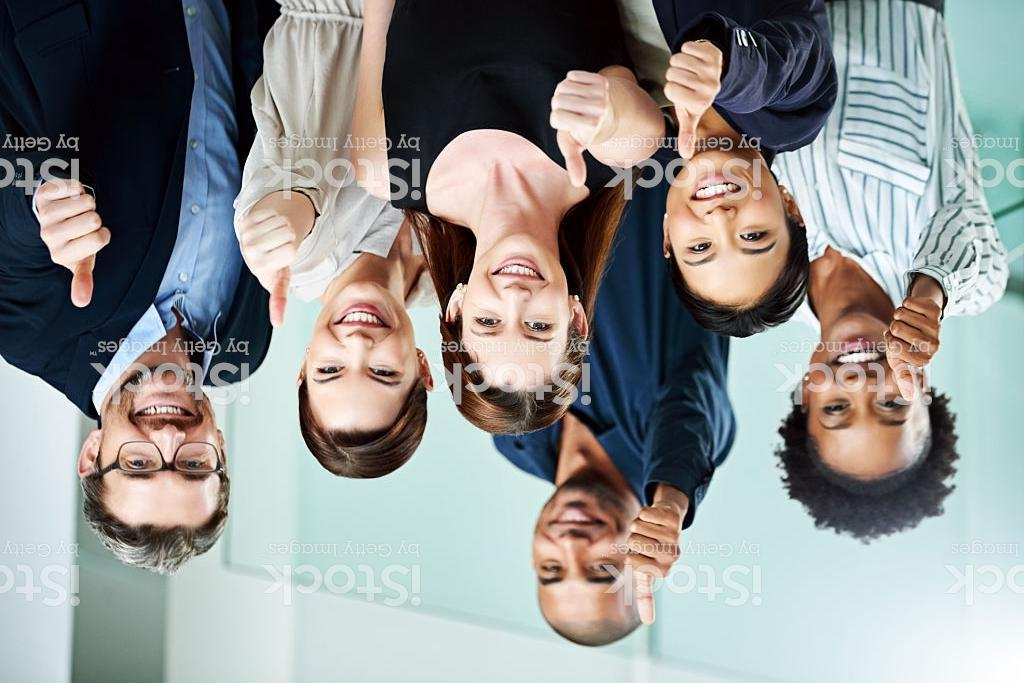thumbsdown: (33, 175, 116, 309), (621, 501, 683, 627), (237, 207, 299, 329), (549, 66, 610, 188), (662, 37, 722, 161), (882, 295, 942, 403)
